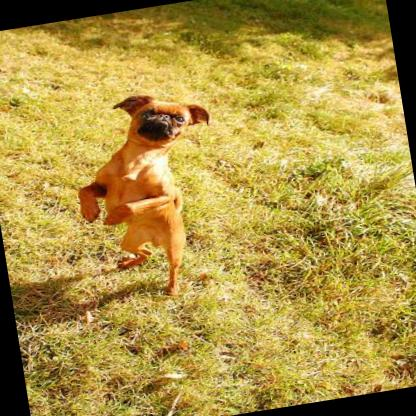Brabancon_griffon: (64, 82, 235, 306)
